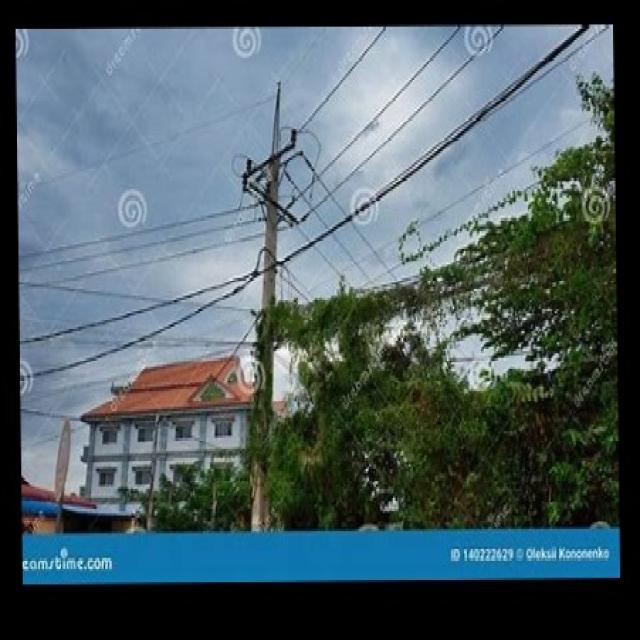critical vegetation: (264, 263, 614, 380)
